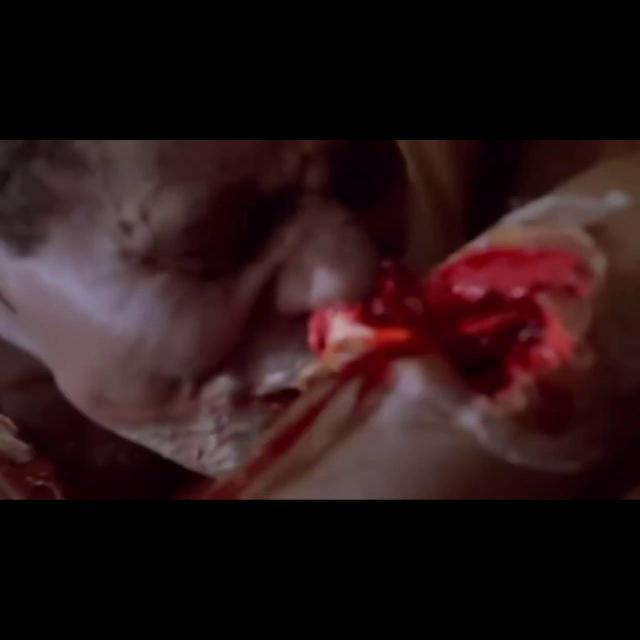blood: (208, 190, 632, 498)
